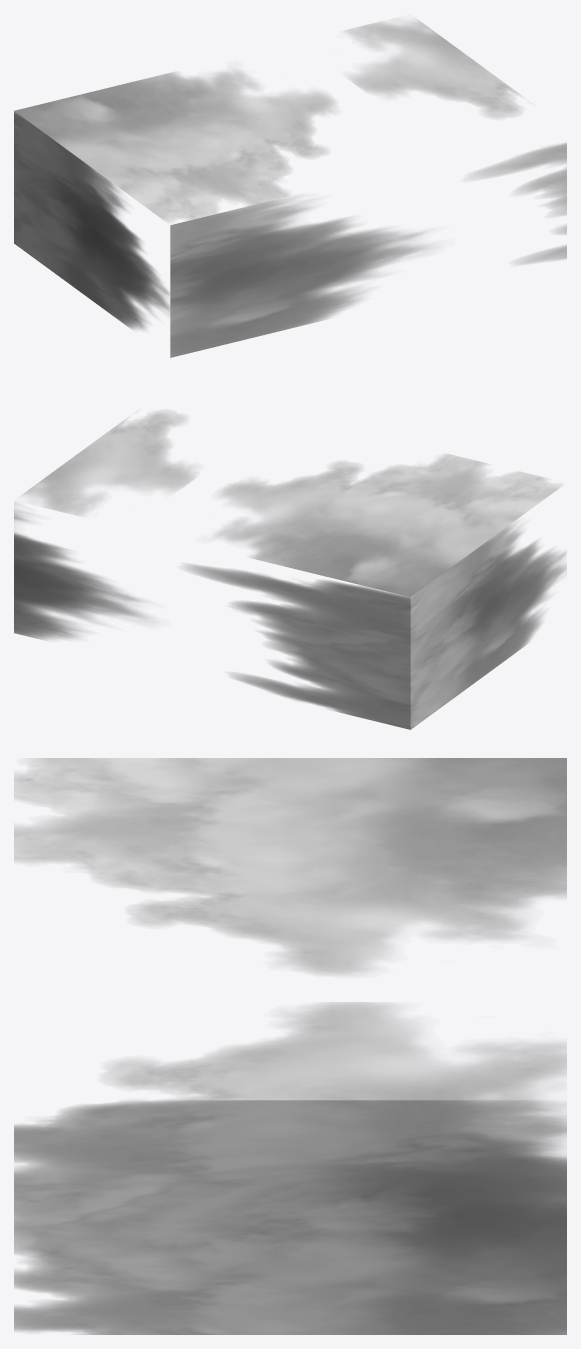
File: fog.glb
3 views of the same model, one above another, from view 1: azimuth 30°, elevation 25°; view 2: azimuth 150°, elevation 25°; view 3: azimuth 270°, elevation 25° (orthographic). The views are drawn at different scales.
Parts seen in each view (by area): view 1: Cube; view 2: Cube; view 3: Cube.
Part boxes in pixels (x1=…): Cube: x1=14, y1=19, x2=566, y2=357; Cube: x1=14, y1=409, x2=566, y2=729; Cube: x1=14, y1=758, x2=566, y2=1334.
Bounding box in the file's own units: 83.36 × 26.64 × 56.92.
1 material, 1 textured.
